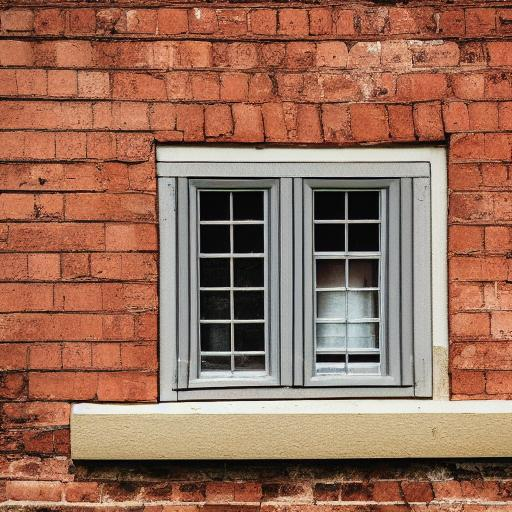Window: (67, 139, 512, 465)
